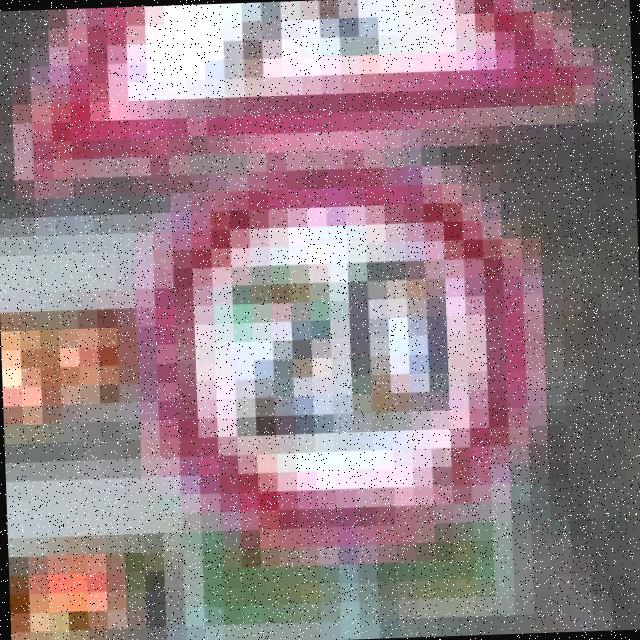Ograniczenie predkosci do 20: (132, 141, 554, 571)
